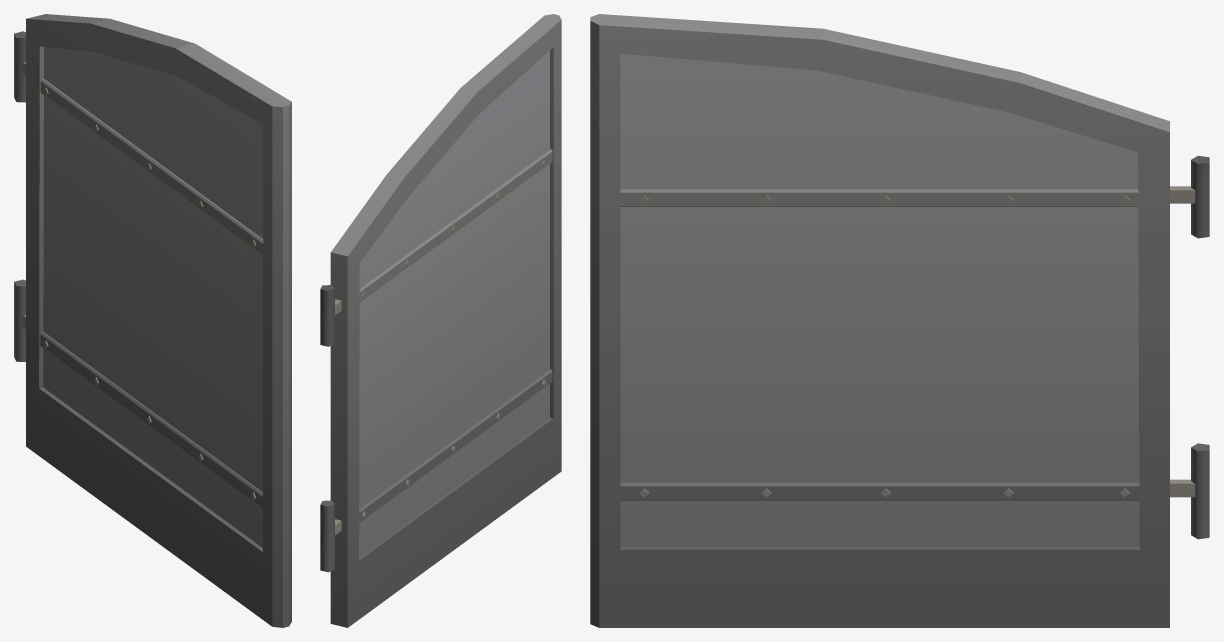
File: WallFence_3_Gate_C.fbx
The picture shows the model from 3 angles, left to right: view 1: azimuth 30°, elevation 25°; view 2: azimuth 150°, elevation 25°; view 3: azimuth 270°, elevation 25°; orthographic projection. The views are drawn at different scales.
Parts seen in each view (by area): view 1: WallFence_3_Gate_C; view 2: WallFence_3_Gate_C; view 3: WallFence_3_Gate_C.
Part boxes in pixels (bbox=[...]): WallFence_3_Gate_C: bbox=[14, 14, 291, 627]; WallFence_3_Gate_C: bbox=[320, 14, 561, 627]; WallFence_3_Gate_C: bbox=[590, 14, 1209, 627].
Size of the model in its own units: 8 by 203 by 189.
